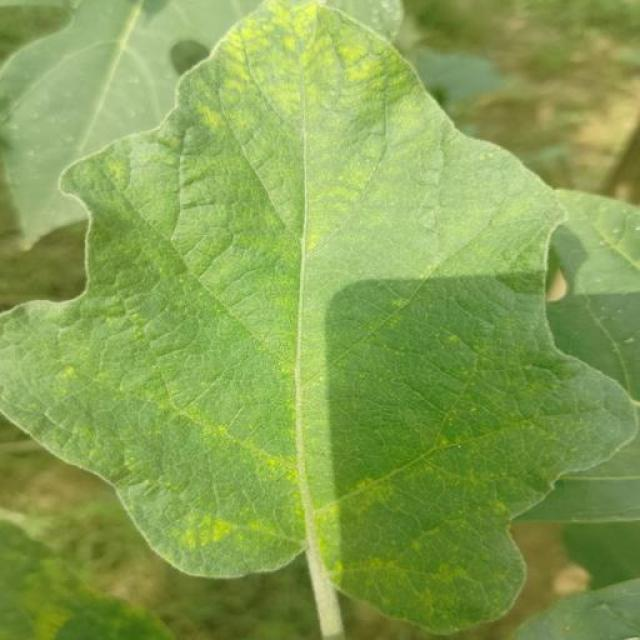leaf_spot: (186, 49, 398, 265), (325, 242, 556, 406), (335, 129, 593, 275), (271, 468, 446, 612), (124, 368, 317, 494), (396, 395, 549, 537), (3, 518, 163, 640), (40, 314, 184, 430), (409, 502, 539, 619), (200, 0, 408, 72), (152, 471, 302, 569), (139, 93, 299, 154), (56, 149, 175, 218)
